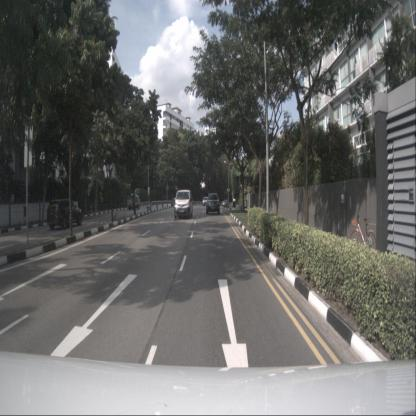vehicle-bicycle: (350, 206, 376, 256)
vehicle-car: (46, 198, 82, 230), (174, 190, 193, 219), (206, 193, 220, 215), (202, 196, 210, 206), (223, 199, 228, 207)
vehicle-truck: (127, 195, 140, 210)
